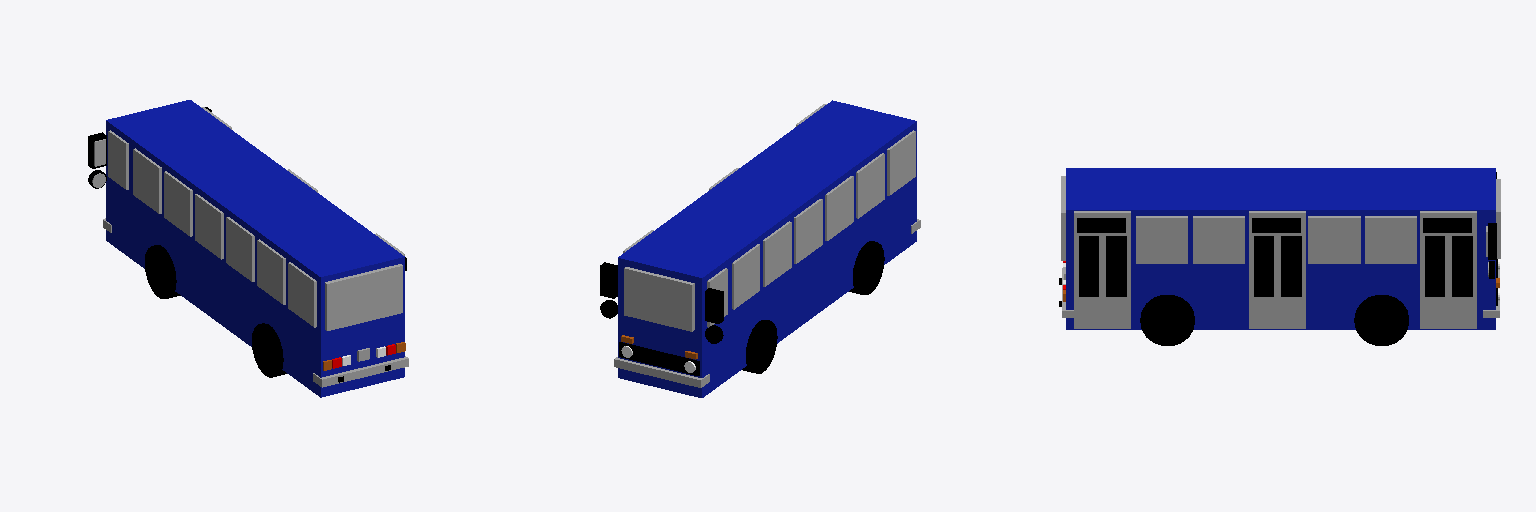
File: ikarus_260.obj
The picture shows the model from 3 angles: view 1: azimuth 30°, elevation 25°; view 2: azimuth 150°, elevation 25°; view 3: azimuth 270°, elevation 25°; orthographic projection.
Visible parts, largest first — view 1: Box01, Box36, Box25, Box22, Box23, Box26, Box27, Box24, Cylinder06, Cylinder05, Box28, Box35; view 2: Box01, Box02, Box22, Box23, Box24, Box26, Box25, Box27, Cylinder06, Cylinder05, Box40, Box05 (+2 smaller); view 3: Box01, Box06, Box10, Box14, Box20, Box18, Box19, Box21, Cylinder03, Cylinder04, Box08, Box12 (+7 smaller).
Boxes of the visible parts, x1=… form: Box01: x1=106, y1=100, x2=404, y2=397; Box36: x1=325, y1=264, x2=402, y2=330; Box25: x1=195, y1=194, x2=223, y2=259; Box22: x1=288, y1=262, x2=316, y2=327; Box23: x1=257, y1=239, x2=285, y2=304; Box26: x1=164, y1=171, x2=192, y2=236; Box27: x1=133, y1=148, x2=161, y2=213; Box24: x1=226, y1=217, x2=254, y2=281; Cylinder06: x1=145, y1=245, x2=180, y2=298; Cylinder05: x1=252, y1=323, x2=286, y2=377; Box28: x1=108, y1=130, x2=128, y2=189; Box35: x1=313, y1=356, x2=408, y2=387; Box01: x1=618, y1=100, x2=916, y2=397; Box02: x1=624, y1=267, x2=694, y2=331; Box22: x1=887, y1=130, x2=915, y2=195; Box23: x1=856, y1=153, x2=884, y2=218; Box24: x1=825, y1=176, x2=853, y2=240; Box26: x1=763, y1=221, x2=791, y2=286; Box25: x1=794, y1=199, x2=822, y2=263; Box27: x1=732, y1=244, x2=759, y2=309; Cylinder06: x1=742, y1=320, x2=777, y2=373; Cylinder05: x1=849, y1=241, x2=884, y2=294; Box40: x1=619, y1=342, x2=699, y2=375; Box05: x1=614, y1=357, x2=709, y2=387; Box01: x1=1066, y1=168, x2=1495, y2=329; Box06: x1=1420, y1=211, x2=1476, y2=328; Box10: x1=1249, y1=211, x2=1305, y2=328; Box14: x1=1074, y1=211, x2=1130, y2=328; Box20: x1=1308, y1=216, x2=1360, y2=263; Box18: x1=1193, y1=216, x2=1244, y2=263; Box19: x1=1136, y1=216, x2=1187, y2=263; Box21: x1=1365, y1=216, x2=1416, y2=263; Cylinder03: x1=1354, y1=295, x2=1408, y2=345; Cylinder04: x1=1140, y1=295, x2=1194, y2=345; Box08: x1=1452, y1=236, x2=1472, y2=296; Box12: x1=1281, y1=236, x2=1301, y2=296.
Size of the model in its own units: 3.56 by 3.79 by 11.3.